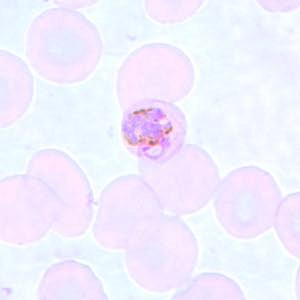Infected: (119, 99, 187, 162)
Uninfected: (23, 147, 93, 237), (26, 5, 102, 83), (125, 215, 199, 293), (139, 145, 221, 215), (117, 44, 195, 113), (92, 174, 162, 248), (216, 167, 281, 239), (0, 175, 62, 244)
